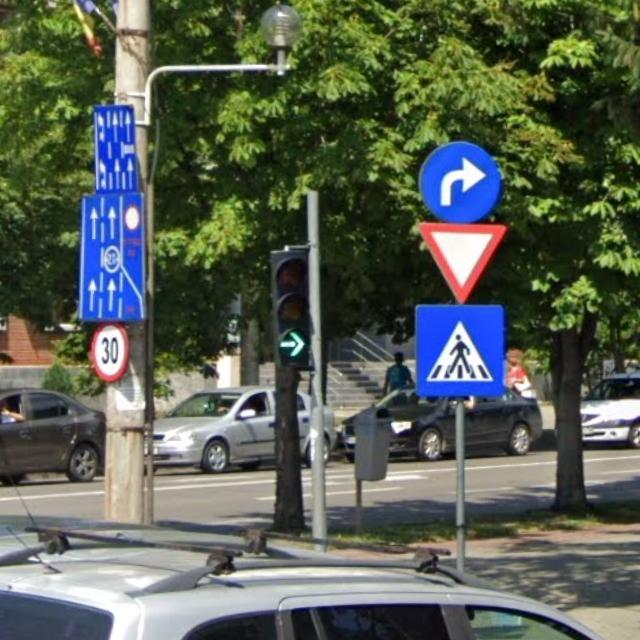forb_speed_over_30: (91, 322, 131, 382)
info_crosswalk: (414, 303, 507, 398)
prio_give_way: (422, 220, 505, 303)
